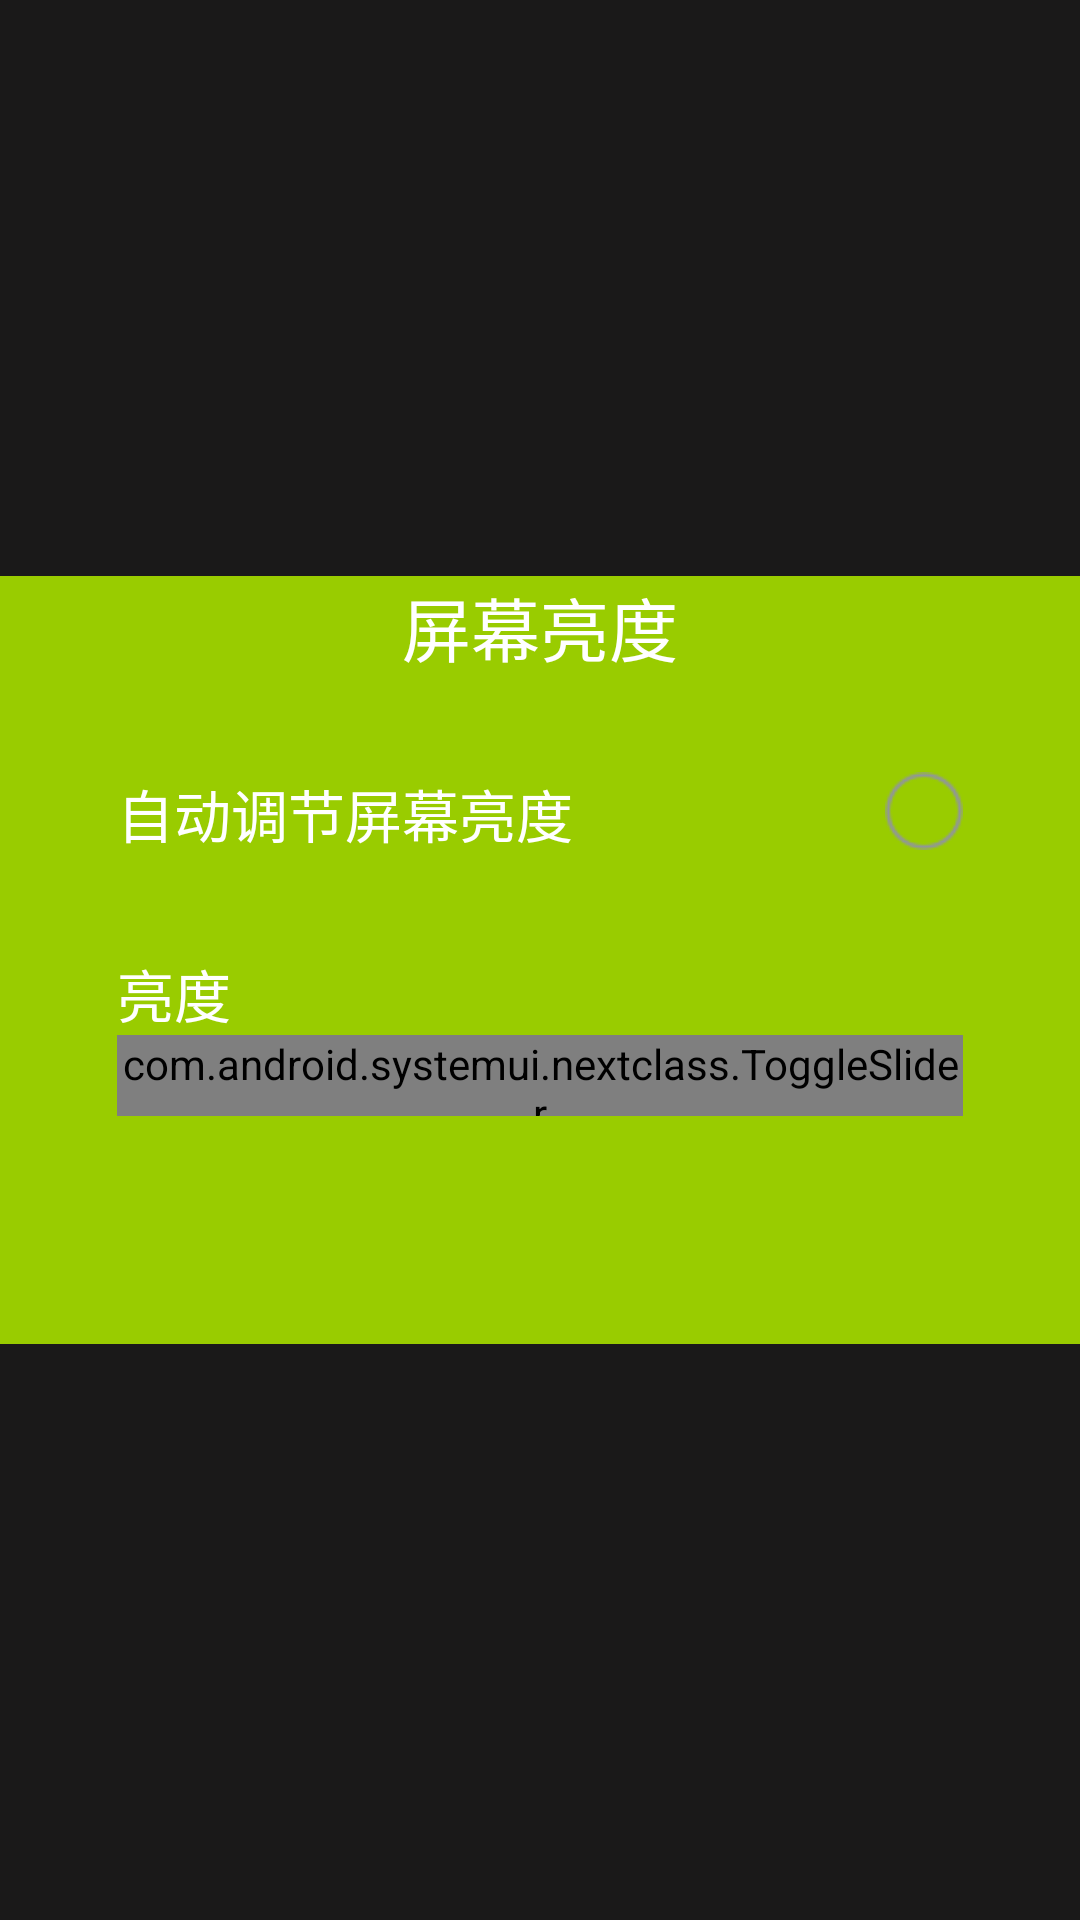

Icon click points for this 1080 x 1920 phone screenshot, format (x=x, y=y):
nextclass radio: (x=924, y=811)
